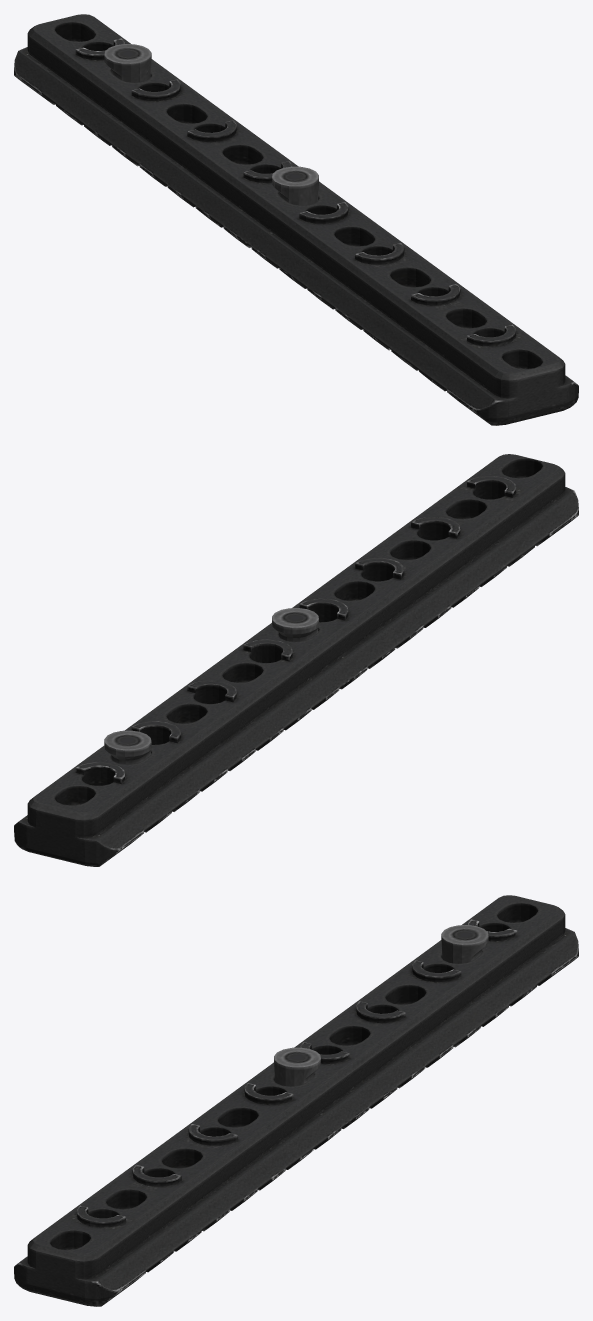
3 renders of one model, top to bottom at view 1: azimuth 30°, elevation 25°; view 2: azimuth 150°, elevation 25°; view 3: azimuth 330°, elevation 25°, orthographic.
Parts seen in each view (by area): view 1: TW_6711109e723c2733410161eb_PZ_Import; view 2: TW_6711109e723c2733410161eb_PZ_Import; view 3: TW_6711109e723c2733410161eb_PZ_Import.
Boxes of the visible parts, x1=… form: TW_6711109e723c2733410161eb_PZ_Import: x1=14, y1=14, x2=578, y2=425; TW_6711109e723c2733410161eb_PZ_Import: x1=14, y1=454, x2=578, y2=866; TW_6711109e723c2733410161eb_PZ_Import: x1=14, y1=895, x2=578, y2=1306.
Bounding box in the file's own units: 0.0123 × 0.0997 × 0.00771.
Materials: 1 (1 with a texture image).
